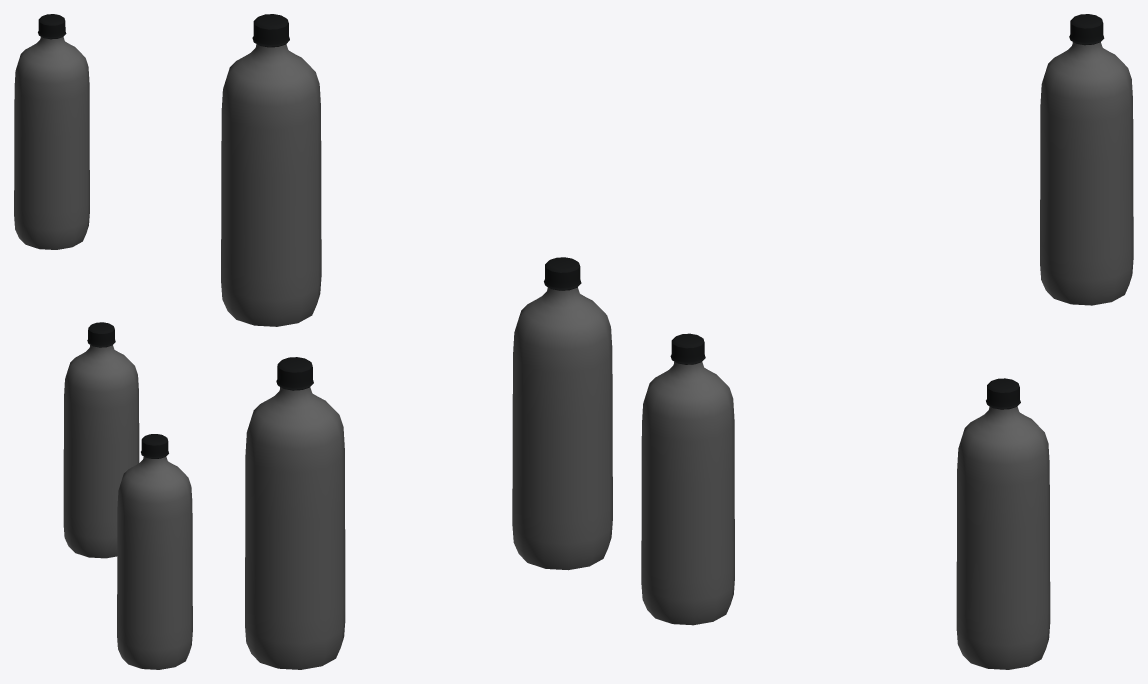
The model's file is GlassBottle.FBX.
3 renders of one model, left to right at view 1: azimuth 30°, elevation 25°; view 2: azimuth 150°, elevation 25°; view 3: azimuth 270°, elevation 25°, orthographic. The views are drawn at different scales.
Parts seen in each view (by area): view 1: GlassBottle (×3); view 2: GlassBottle (×3); view 3: GlassBottle (×3).
Part boxes in pixels (x1,y1,x2,y2): GlassBottle (×3): (14, 14, 192, 669); GlassBottle (×3): (221, 14, 612, 669); GlassBottle (×3): (641, 14, 1133, 669).
Size of the model in its own units: 0.7365 by 2.54 by 1.82.
Materials: 2 (2 with a texture image).
